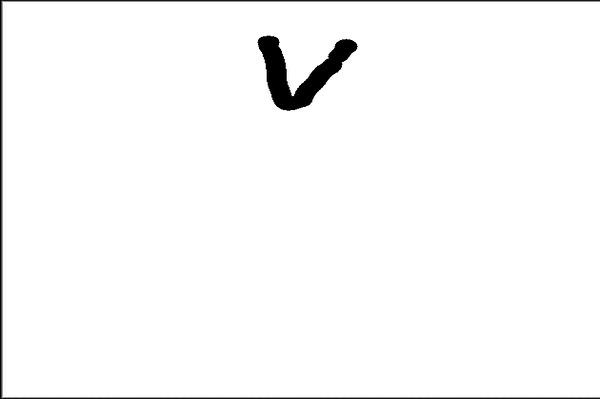V: (248, 19, 359, 121)
